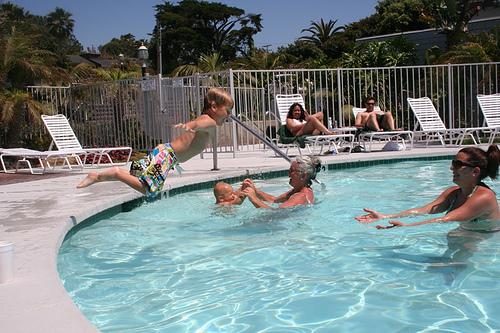human: (355, 142, 498, 234), (130, 90, 232, 187), (247, 154, 318, 208), (214, 169, 250, 209)
